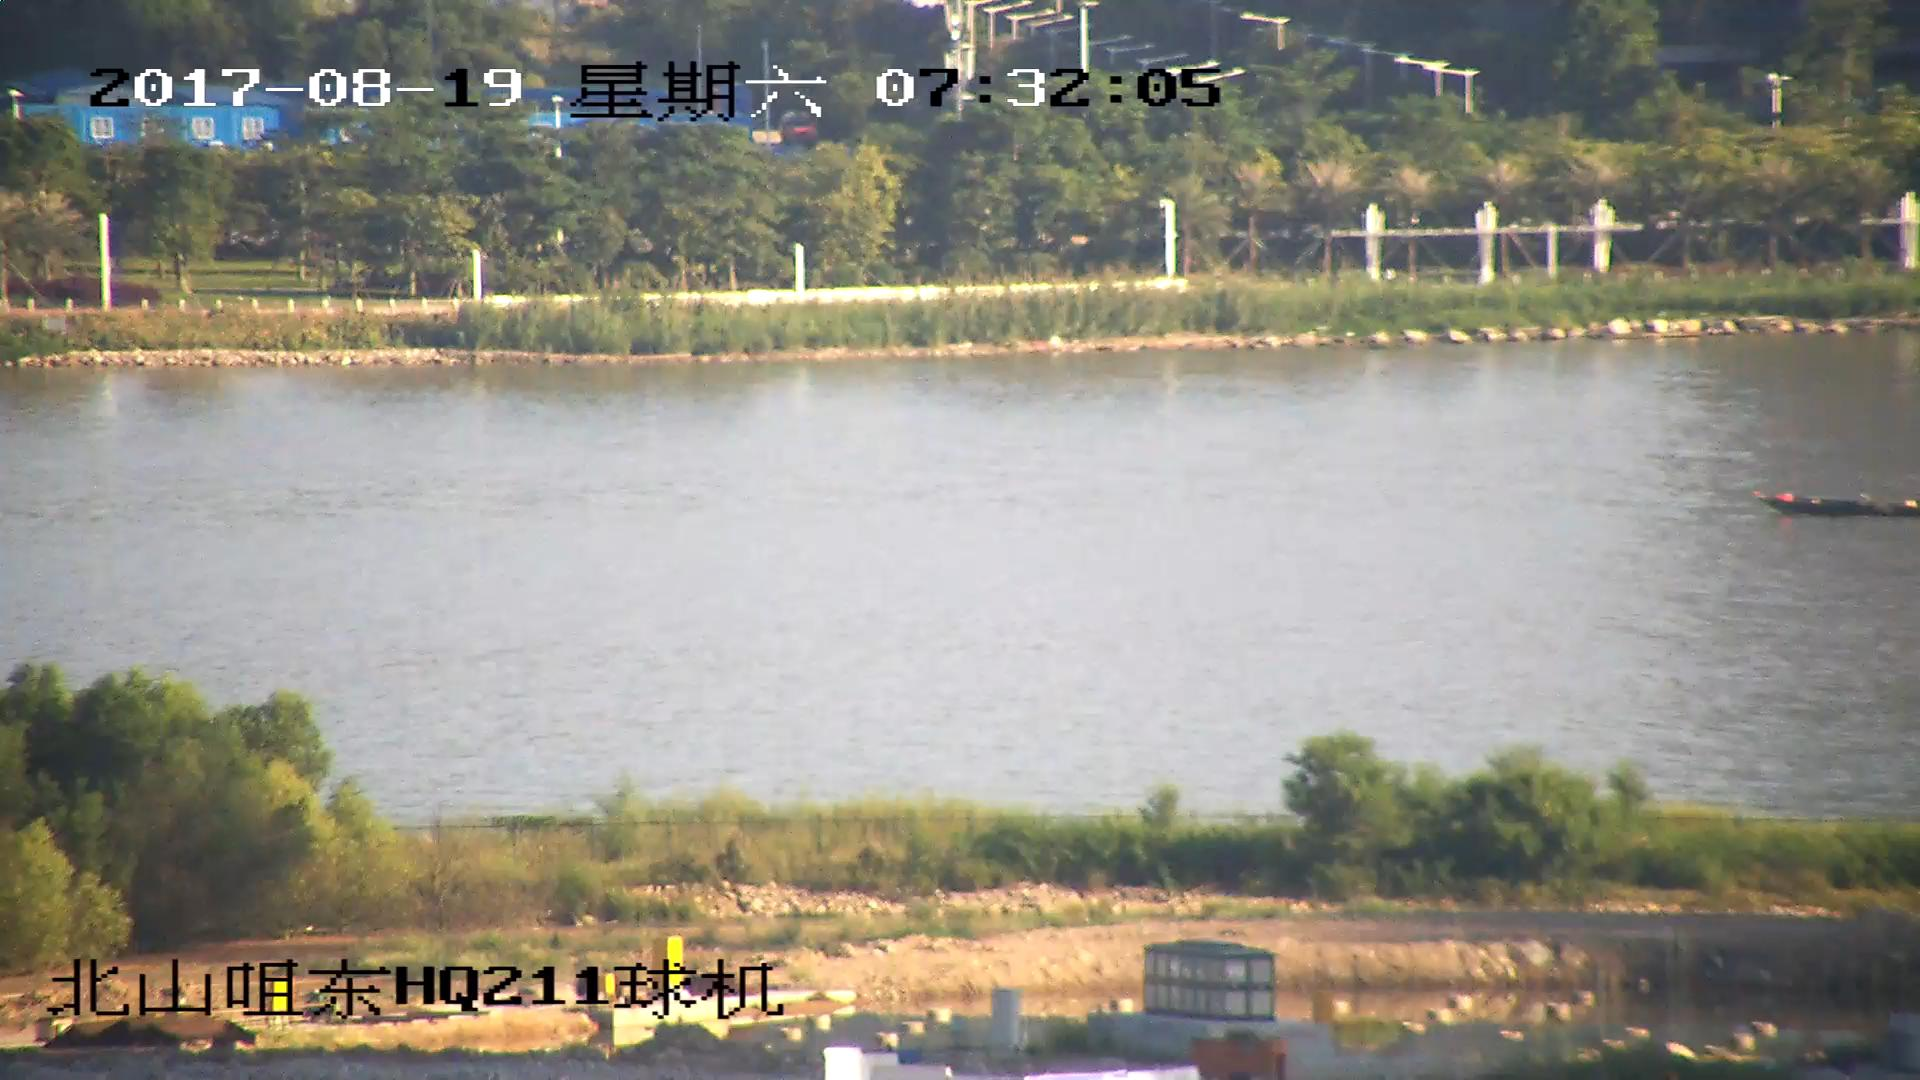fishing boat: (1759, 490, 1920, 518)
